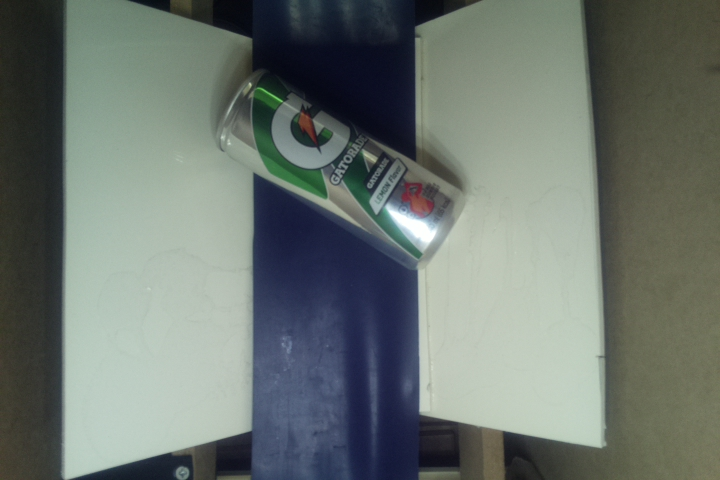can: (214, 65, 467, 270)
